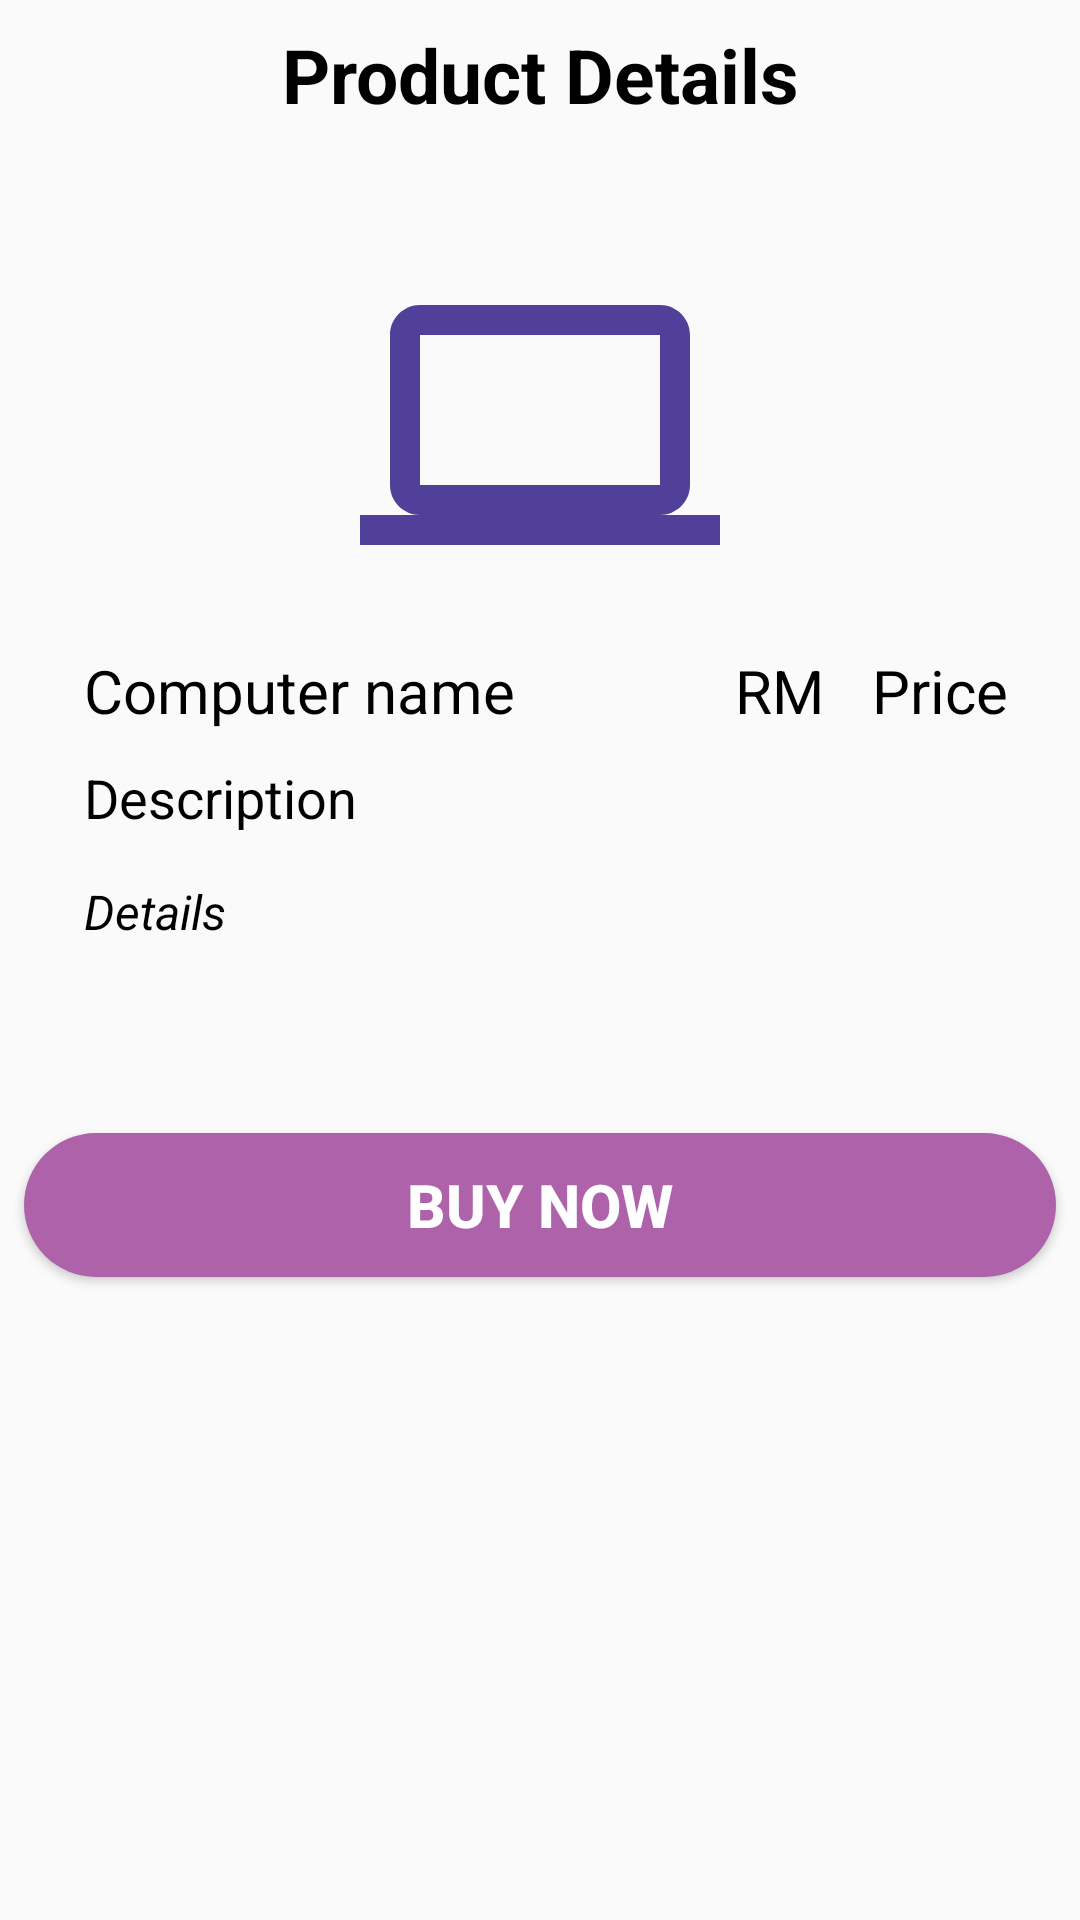

Named icons in this screenshot (1080w x 1920h) and their bounding boxes, (x1, y1, x2, y2):
product laptop: (360, 305, 720, 545)
